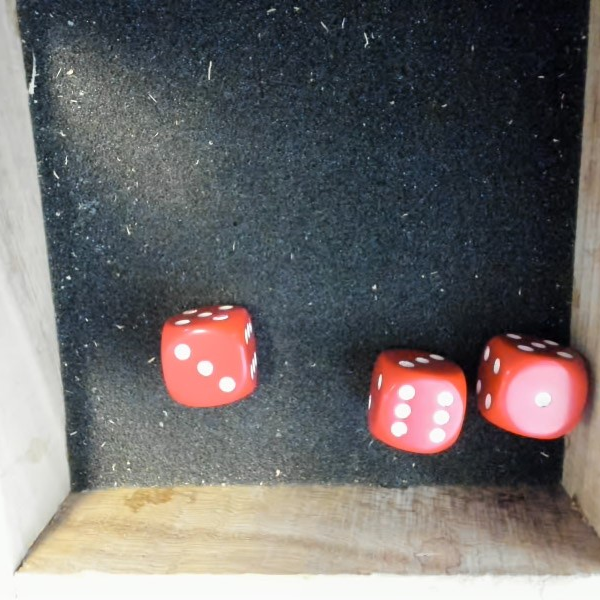red_die_pip1: (468, 319, 600, 451)
red_die_pip3: (148, 292, 269, 413)
red_die_pip6: (357, 337, 470, 460)
